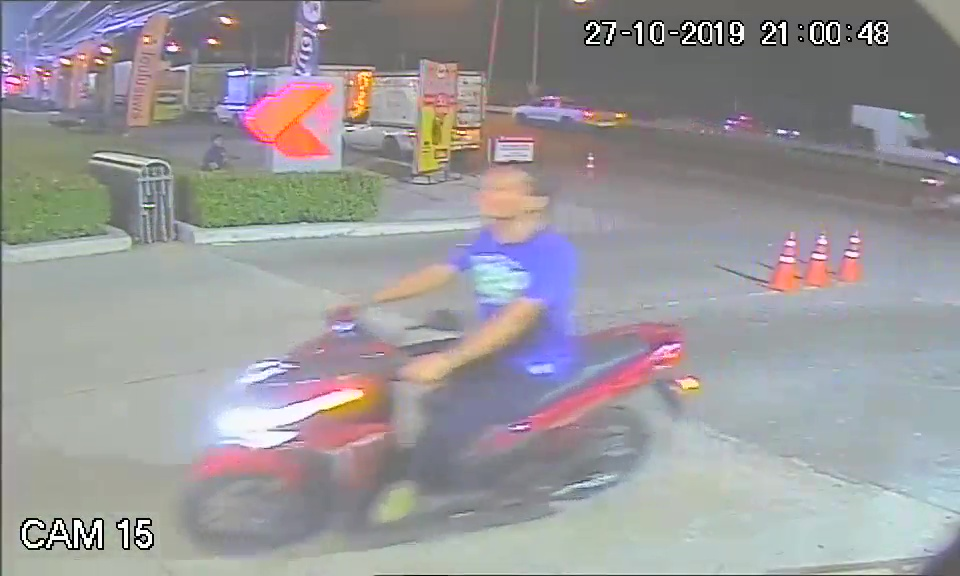motorcycle: (176, 307, 700, 560)
